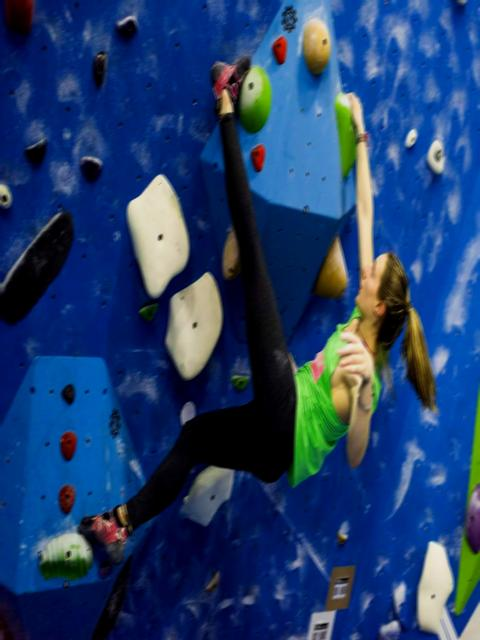crimp: (79, 156, 102, 180), (24, 139, 46, 162), (115, 15, 137, 38), (138, 303, 158, 321), (230, 374, 249, 390)
jib: (58, 484, 75, 514), (59, 431, 76, 460), (250, 144, 265, 171), (272, 36, 286, 63), (97, 560, 112, 579), (61, 383, 75, 403), (0, 184, 11, 208), (405, 128, 417, 148)
jug: (183, 465, 234, 525)
ledge: (0, 210, 74, 323), (38, 532, 92, 580)
sidepull: (92, 51, 107, 86)
sloper: (237, 65, 271, 132), (302, 18, 330, 74)
undercling: (126, 174, 188, 298), (164, 271, 222, 380)
